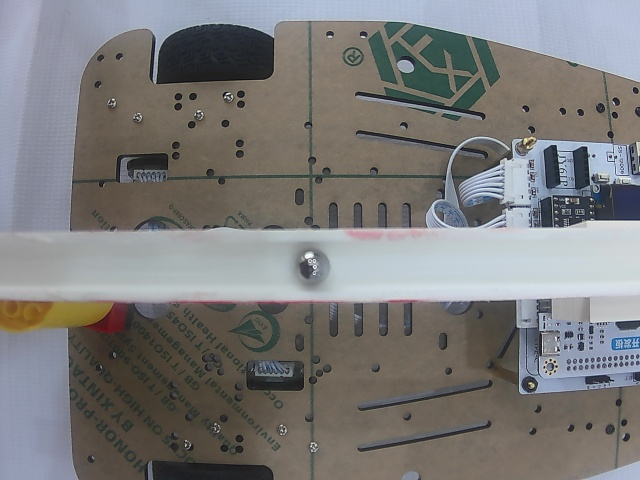steelball: (293, 247, 331, 283)
